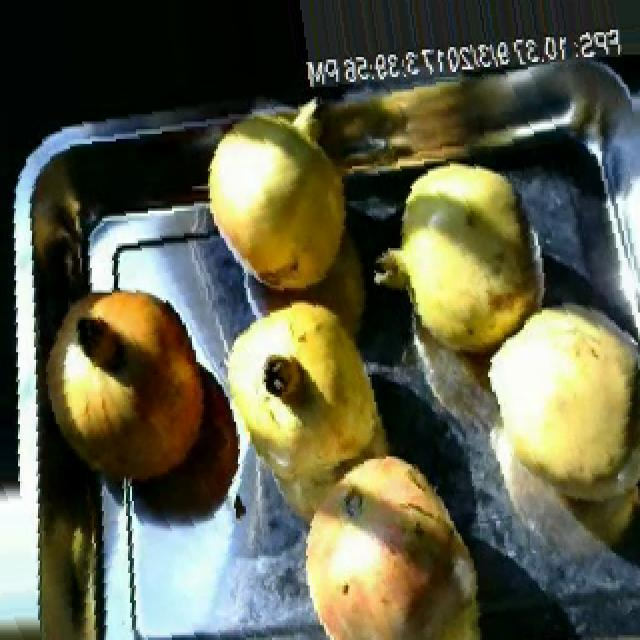fruit: (278, 431, 500, 640), (32, 266, 224, 504), (468, 283, 640, 541), (374, 153, 558, 374), (206, 290, 394, 501), (194, 104, 358, 305)
